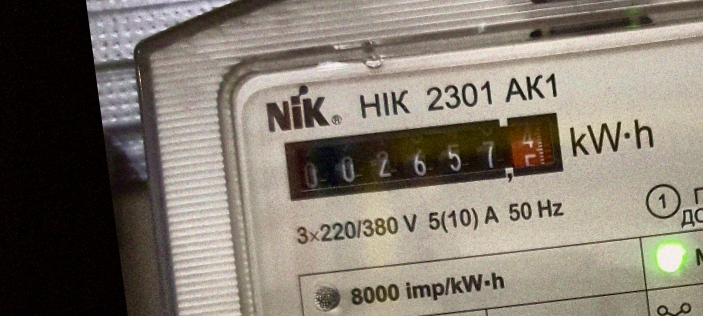0: (299, 159, 320, 189), (337, 152, 356, 184)
2: (373, 148, 392, 179)
4: (517, 122, 535, 149)
5: (444, 140, 463, 173), (521, 151, 538, 167)
6: (409, 146, 427, 177)
7: (480, 136, 498, 170)
screen: (272, 94, 576, 219)
